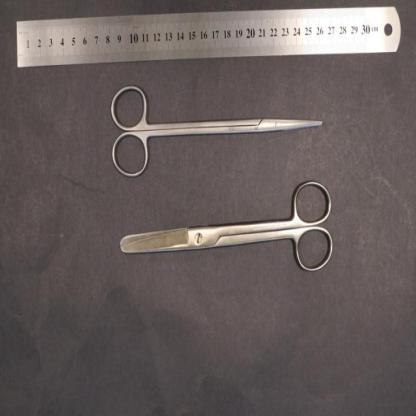7 Metzenbaum Scissors: (109, 82, 323, 180)
Dressing Scissors: (119, 179, 334, 274)
